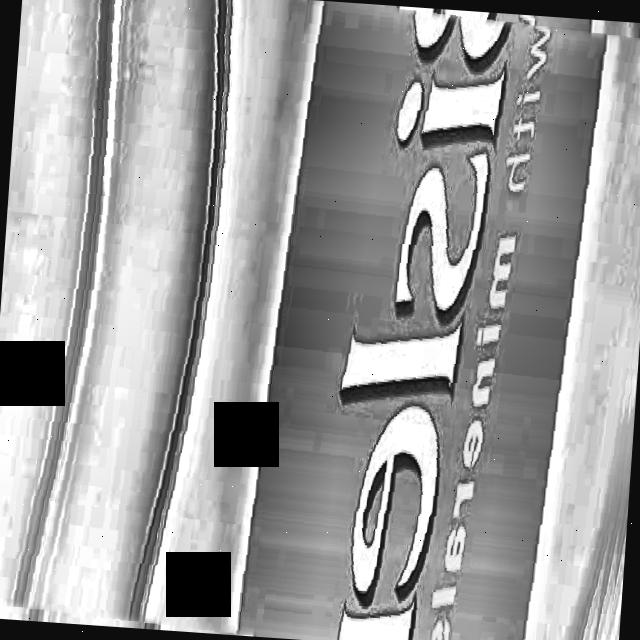bottle: (0, 0, 640, 640)
